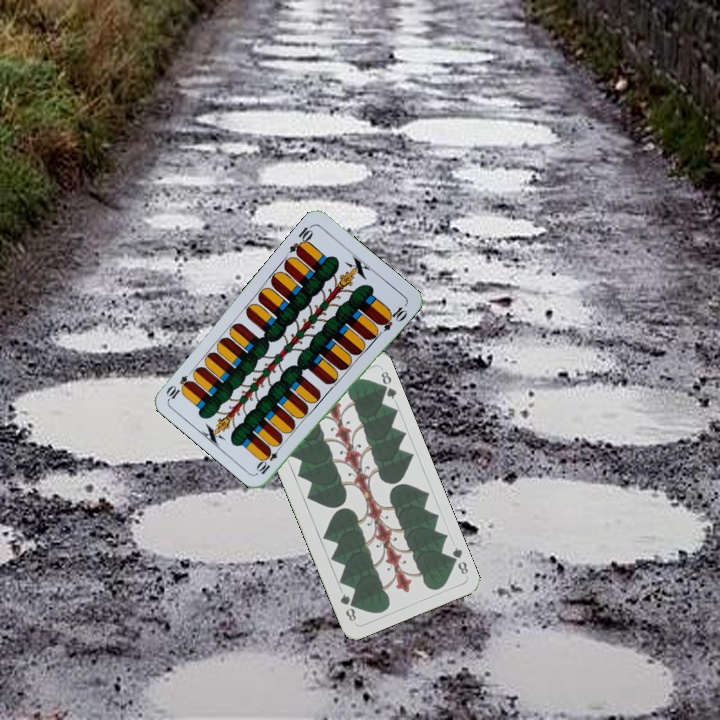E10: (285, 221, 316, 259), (253, 440, 284, 477)
G8: (445, 543, 471, 577)
